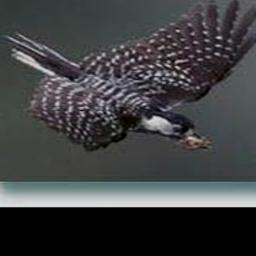Woodpecker: (7, 0, 256, 158)
